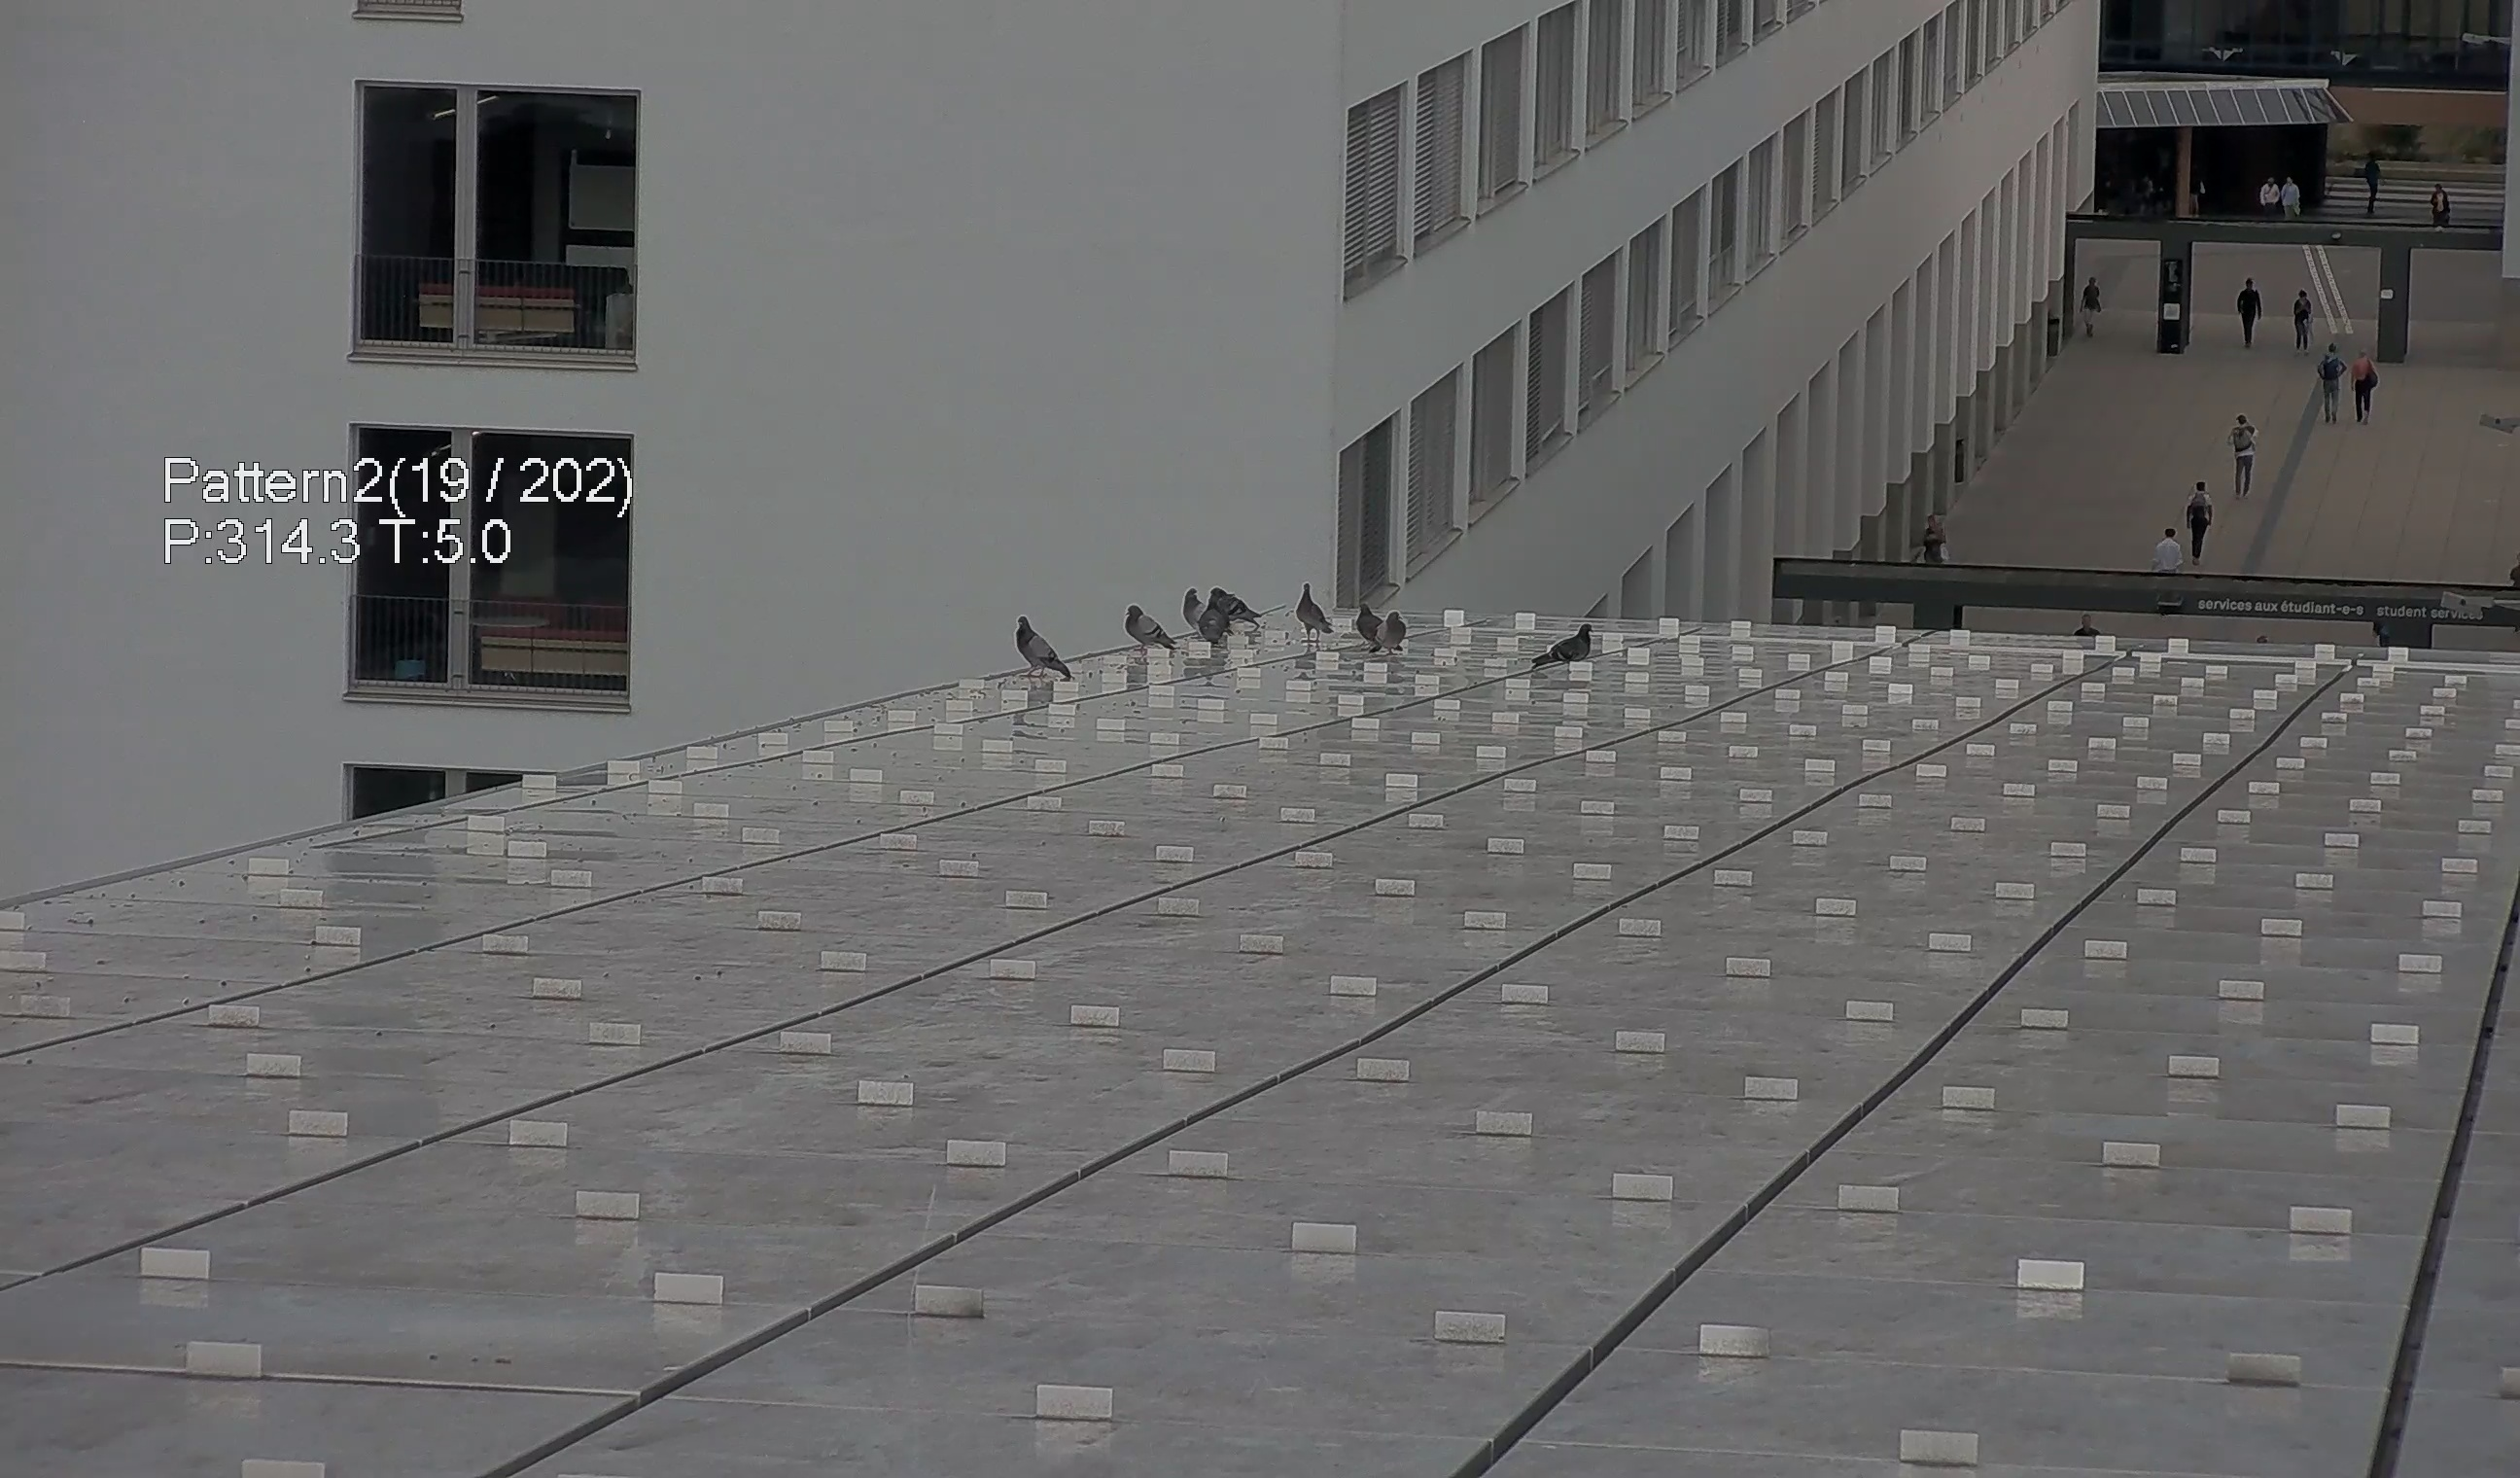Pigeon: (1004, 600, 1078, 695), (1525, 618, 1599, 670), (1199, 595, 1257, 648), (1118, 605, 1175, 656), (1294, 575, 1335, 644), (1210, 586, 1261, 625), (1175, 577, 1205, 630), (1375, 609, 1410, 651), (1347, 602, 1382, 642)
